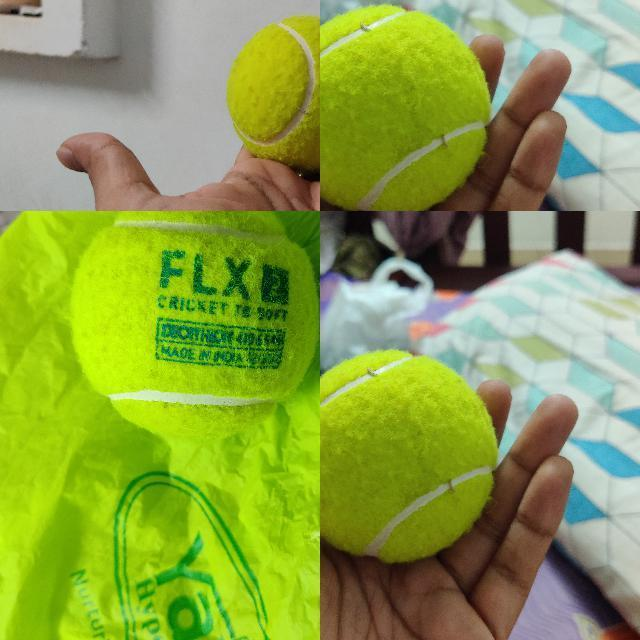tennis-ball: (69, 211, 319, 439), (320, 346, 499, 565), (320, 1, 492, 210), (226, 16, 319, 169)
